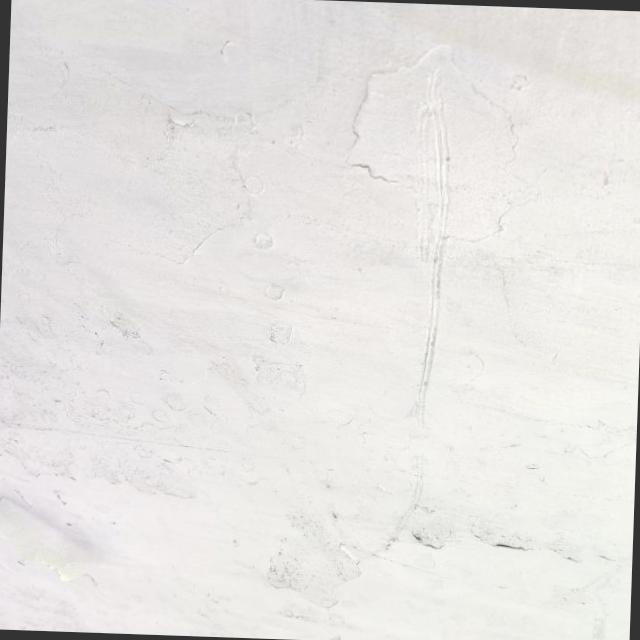paint-off: (0, 480, 109, 599)
scratch: (371, 59, 506, 447)
